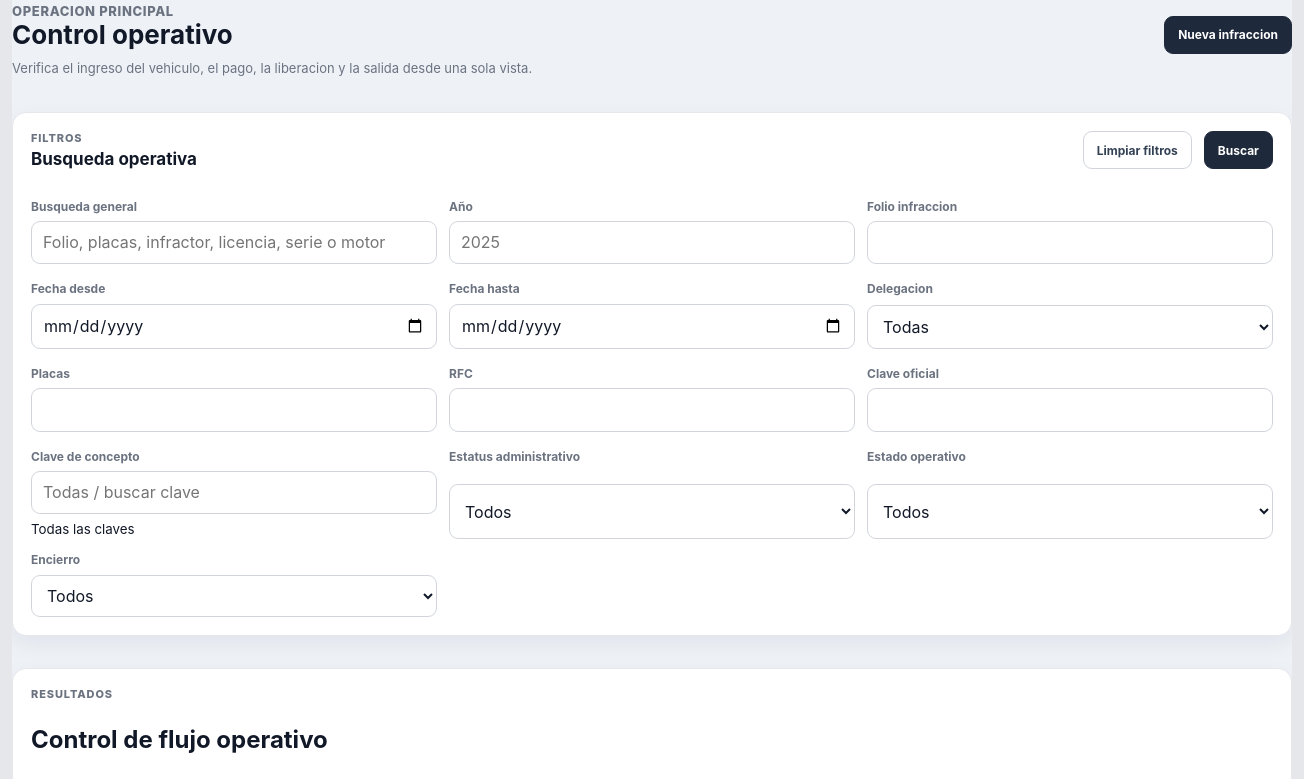
Test: InfraccionesListPage validacion de rango de fechas › Q3.1-06 bloquea un rango invertido mediante filtro rapido
Type "2026-08-24" into the date field labelled "Fecha desde" at [234, 326], box [31,304,437,349]
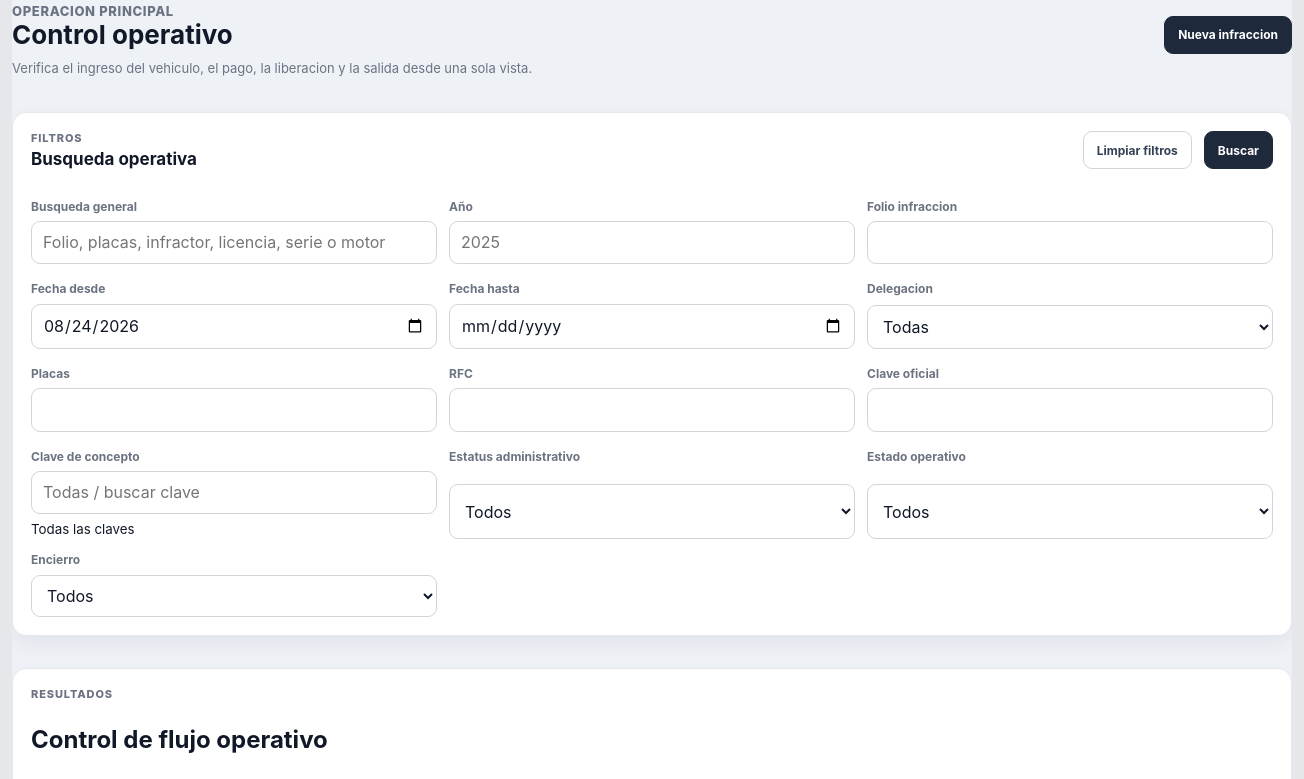
Type "2026-08-20" into the date field labelled "Fecha hasta" at [652, 326], box [449,304,855,349]
(page scrolled)
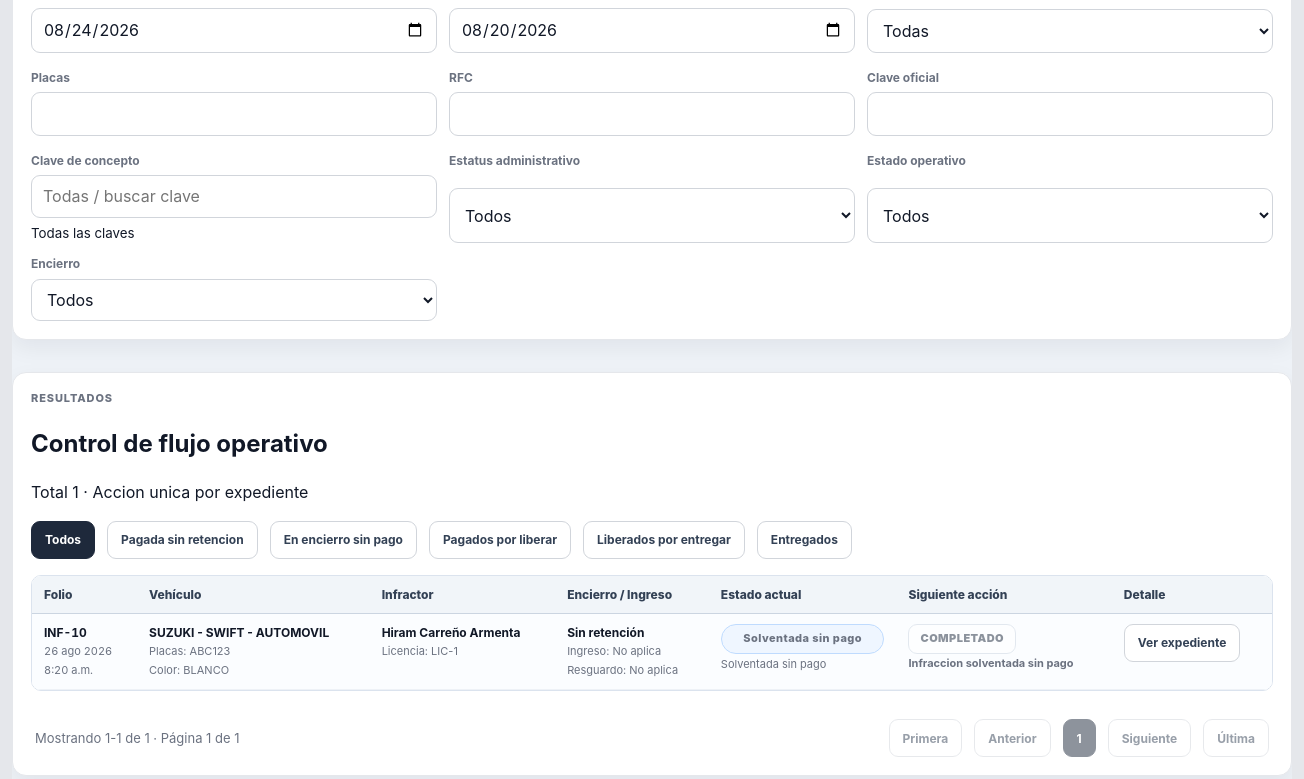
Click the button "Pagada sin retencion" at [182, 540], box [107,521,258,559]
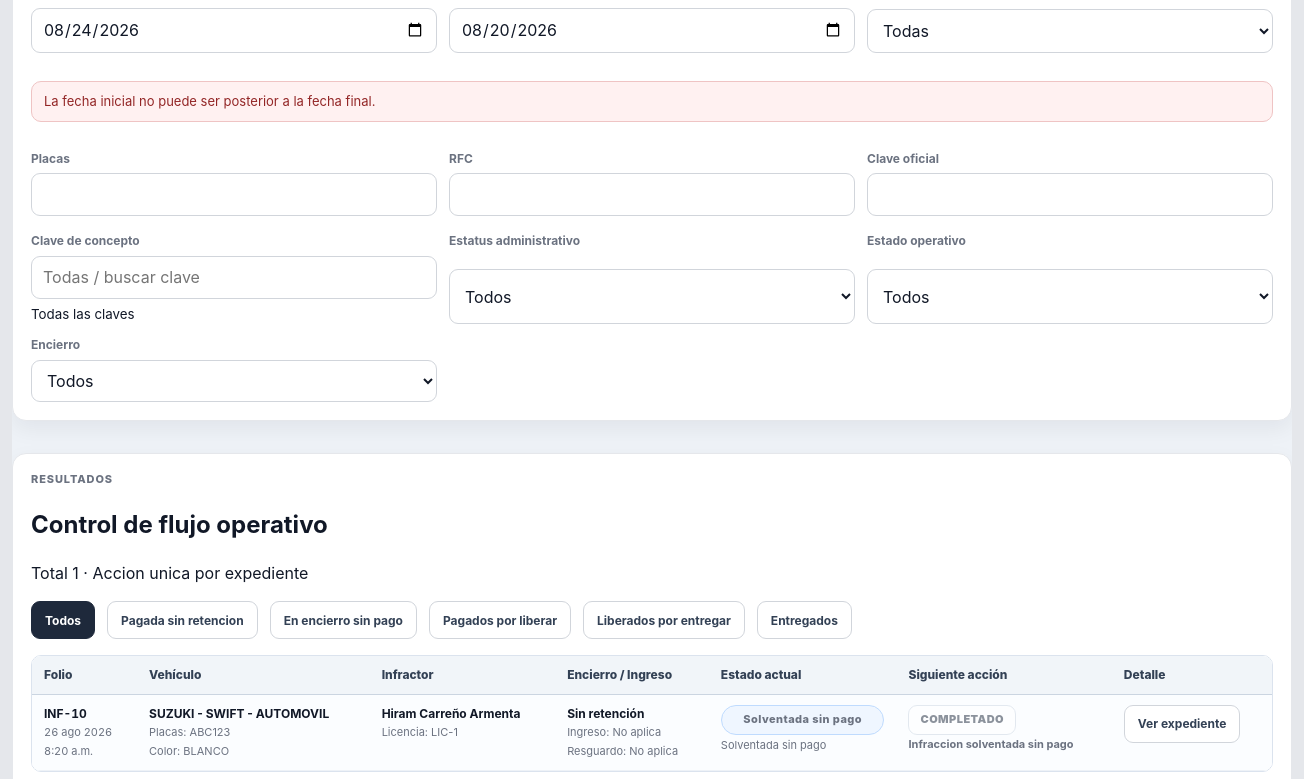
Check: the text "INF-10" is shown, box [44,705,87,722]
Check: the text "La fecha inicial no puede ser posterior a la fecha final." is shown, box [31,81,1273,122]
